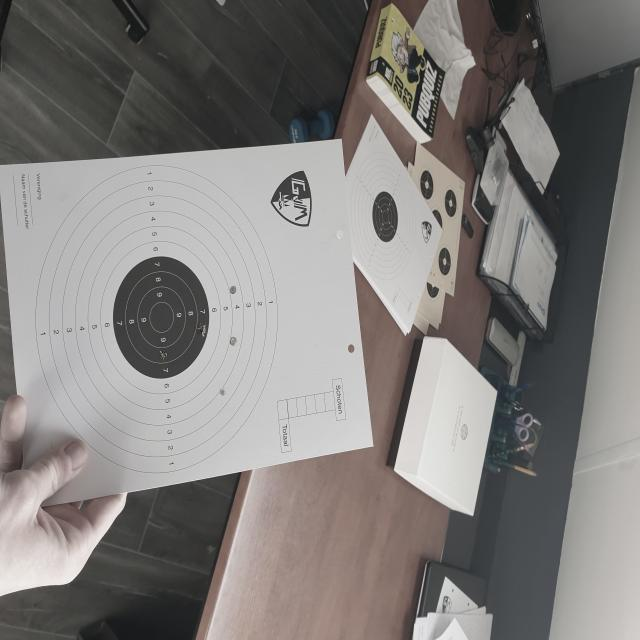4: (220, 388, 226, 396)
5: (229, 337, 237, 346), (229, 286, 236, 294)
7: (196, 322, 206, 337)
8: (158, 348, 166, 362)
Target: (34, 166, 279, 477)
black_contour: (113, 256, 209, 380)
